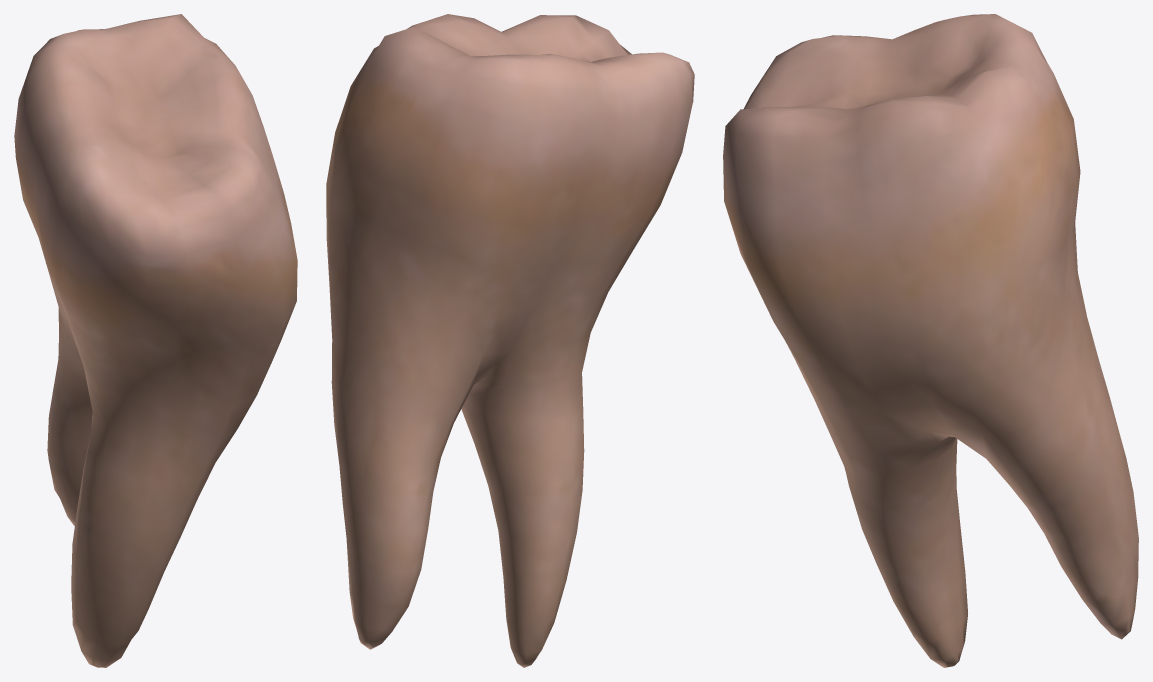
3 renders of one model, left to right at view 1: azimuth 30°, elevation 25°; view 2: azimuth 150°, elevation 25°; view 3: azimuth 270°, elevation 25°, orthographic. The views are drawn at different scales.
Parts seen in each view (by area): view 1: t_36; view 2: t_36; view 3: t_36.
Boxes of the visible parts, bbox=[...] form: t_36: bbox=[14, 14, 297, 667]; t_36: bbox=[326, 14, 694, 667]; t_36: bbox=[723, 14, 1138, 667].
Bounding box in the file's own units: 0.094 × 0.2062 × 0.1211.
Materials: 1 (1 with a texture image).
